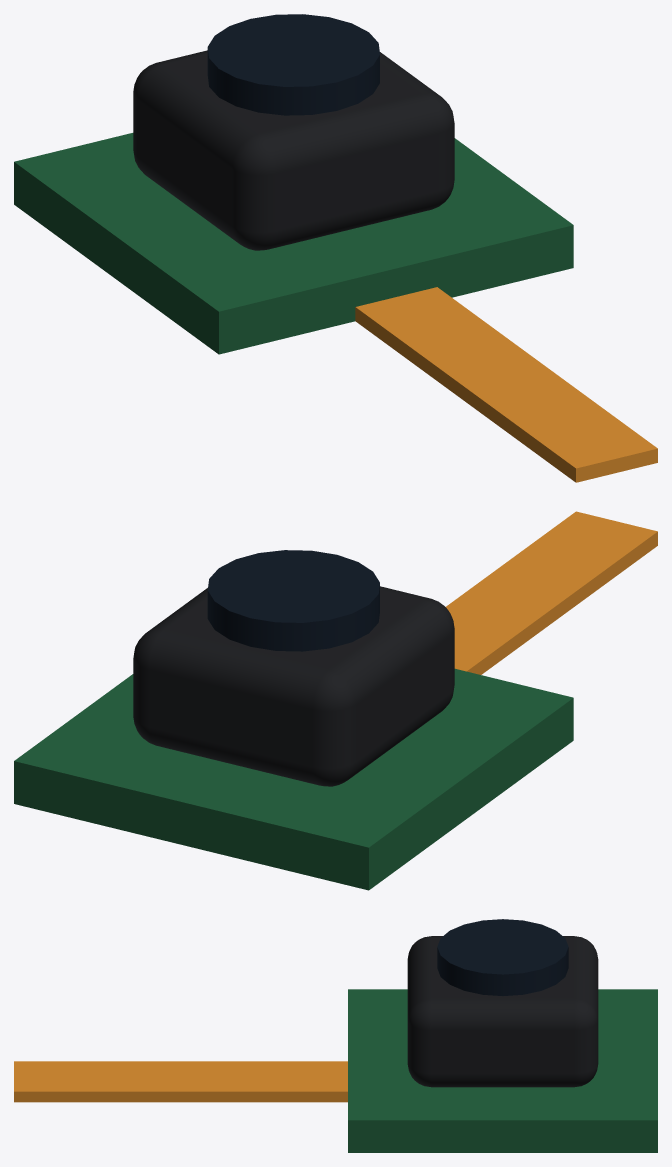
File: part-camera.glb
3 views of the same model, one above another, from view 1: azimuth 30°, elevation 25°; view 2: azimuth 150°, elevation 25°; view 3: azimuth 270°, elevation 25° (orthographic). The views are drawn at different scales.
Parts seen in each view (by area): view 1: pcbGreen, blackPlastic, flexCable2, screenGlass; view 2: pcbGreen, blackPlastic, flexCable2, screenGlass; view 3: pcbGreen, blackPlastic, flexCable2, screenGlass.
Boxes of the visible parts, x1,y1,x2,y2 form: pcbGreen: (14, 133, 573, 354); blackPlastic: (133, 50, 454, 250); flexCable2: (355, 287, 657, 482); screenGlass: (207, 14, 379, 115); pcbGreen: (14, 668, 573, 890); blackPlastic: (133, 586, 454, 786); flexCable2: (446, 511, 657, 674); screenGlass: (207, 550, 379, 651); pcbGreen: (348, 989, 657, 1152); blackPlastic: (407, 936, 598, 1087); flexCable2: (14, 1061, 347, 1102); screenGlass: (437, 919, 568, 995).
Size of the model in its own units: 0.026 by 0.013 by 0.054.
